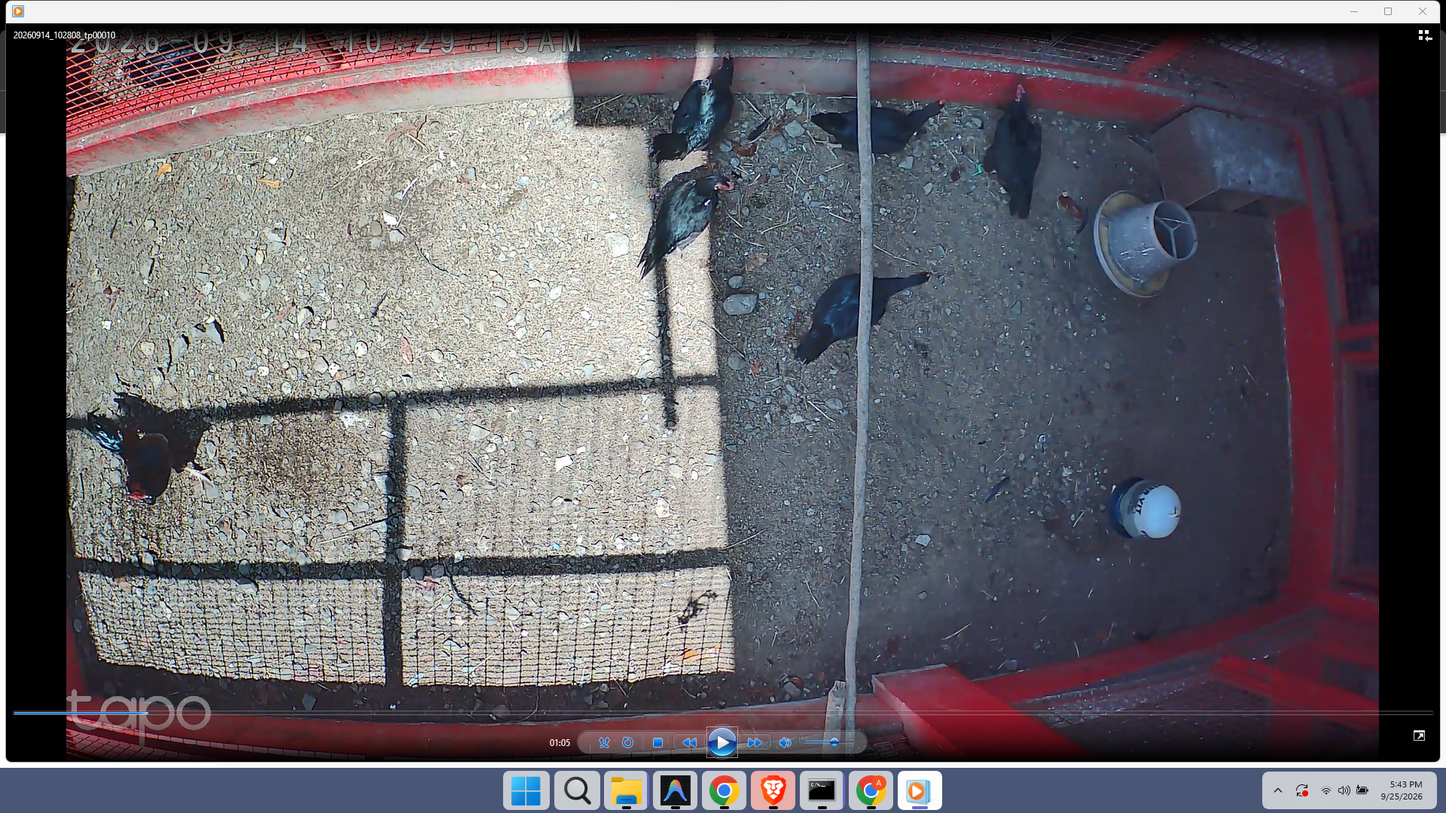Chicken: (796, 266, 930, 365), (636, 173, 737, 280), (650, 49, 738, 165), (968, 80, 1044, 214), (813, 94, 947, 156)
Drinker: (1106, 476, 1181, 544)
Feeder: (1091, 188, 1197, 303)
Rooster: (78, 412, 215, 504)
